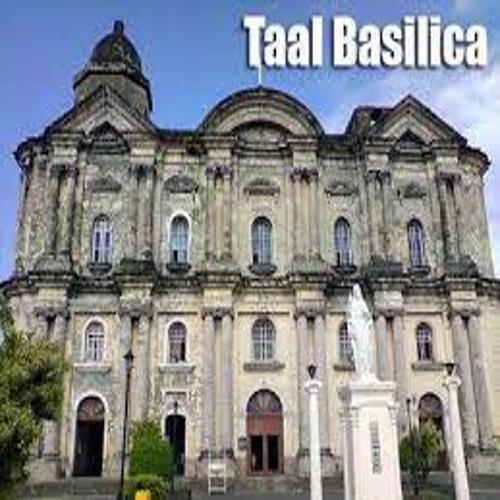Taal Basilica Church: (8, 11, 500, 494)
